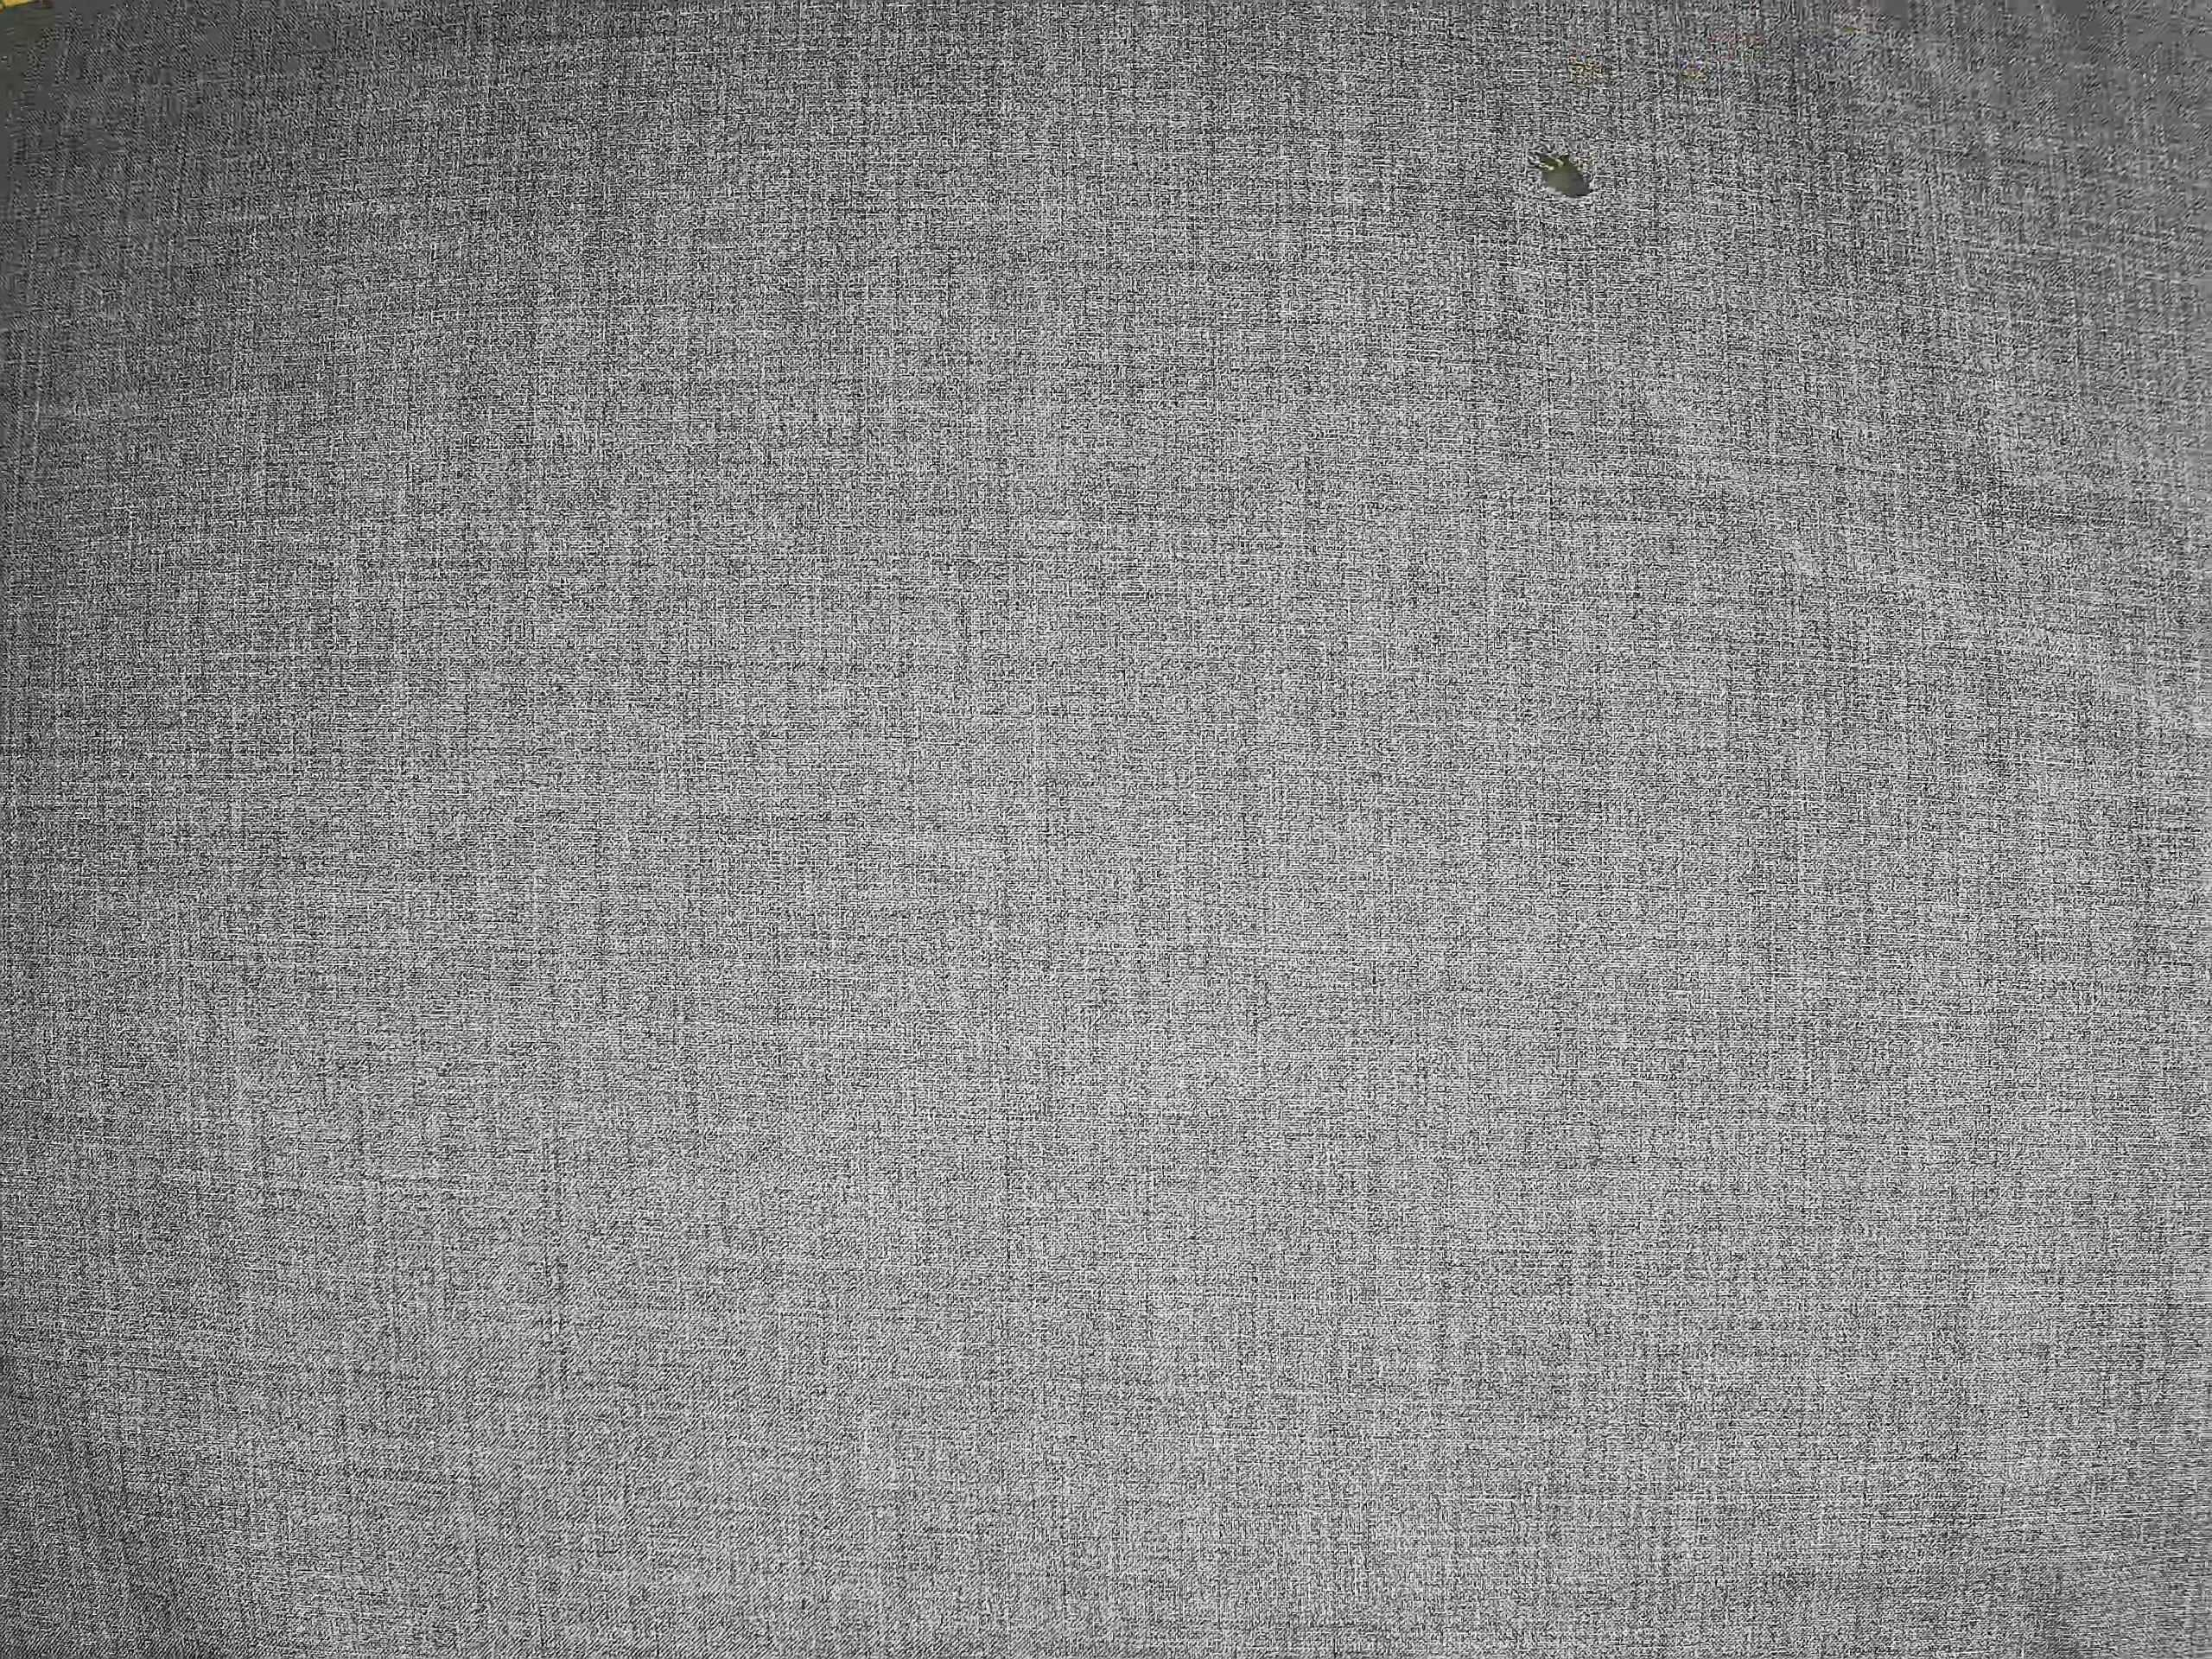rubbing-hole: (1503, 120, 1632, 237)
